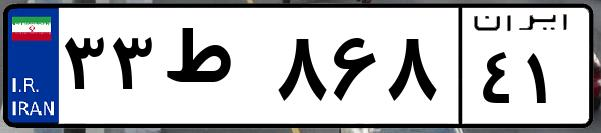1: (525, 38, 570, 115)
3: (57, 26, 110, 100), (110, 28, 158, 98)
4: (475, 38, 525, 113)
6: (330, 28, 385, 110)
8: (270, 28, 330, 110), (385, 28, 445, 110)
ط: (158, 20, 270, 120)
